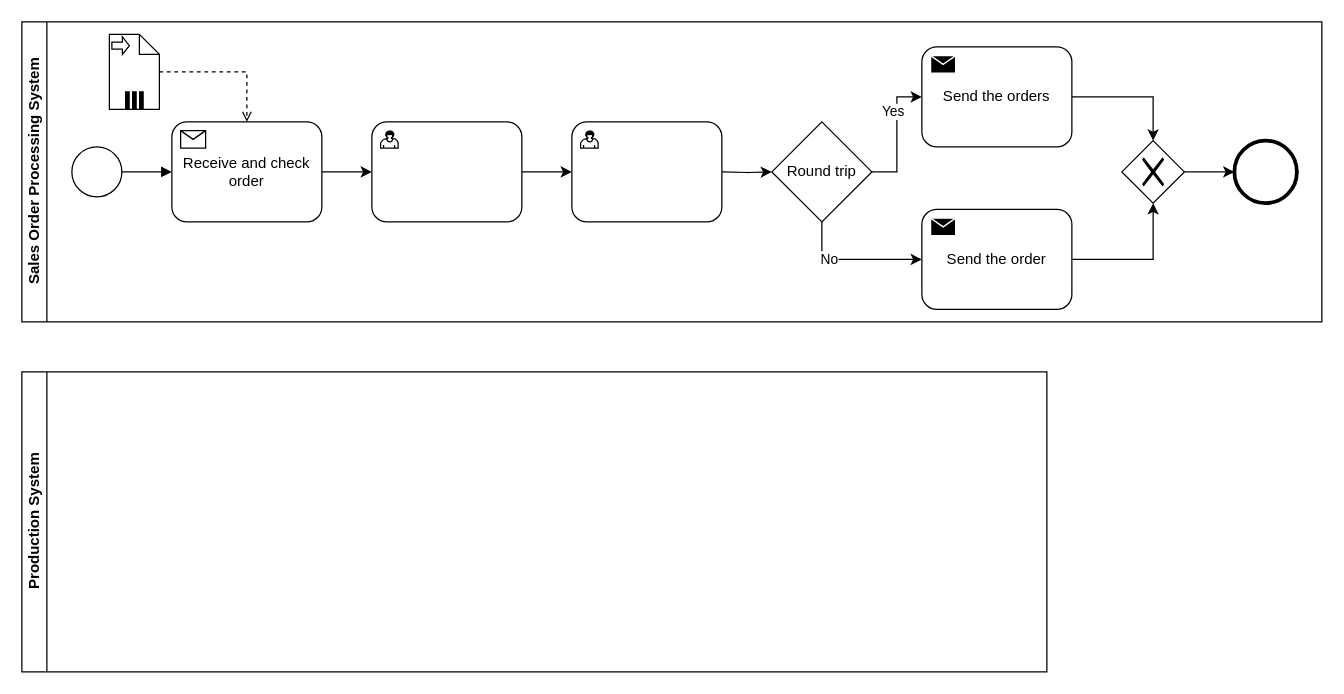
The diagram is 1344 pixels wide and 694 high, and some of its shapes have lost their labels. The shapes that lost their labels are listed below. From the top down, each one's centre as x and y in pixels, then its label:
At point 133,71: "Customer Order".
At point 446,171: "Check time and meals".
At point 646,171: "Check whether the flight is round trip".
